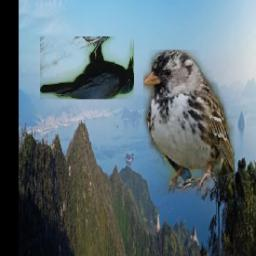Crow: (41, 38, 135, 100)
Sparrow: (143, 50, 235, 195)
